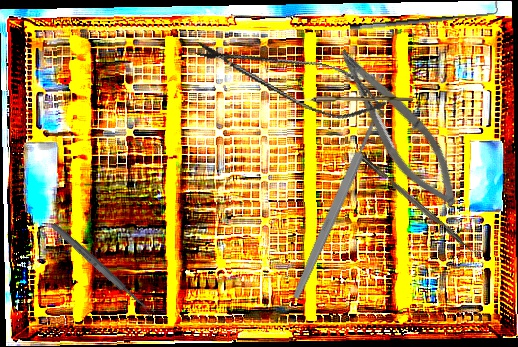Chopper: (360, 149, 484, 260)
Hook Surgical: (348, 0, 501, 33)
Micro Scissor: (317, 39, 476, 218), (185, 25, 397, 133)
Scalpel Handle: (290, 121, 379, 300)
Surgical Spoon: (50, 221, 155, 318), (278, 94, 414, 104)
